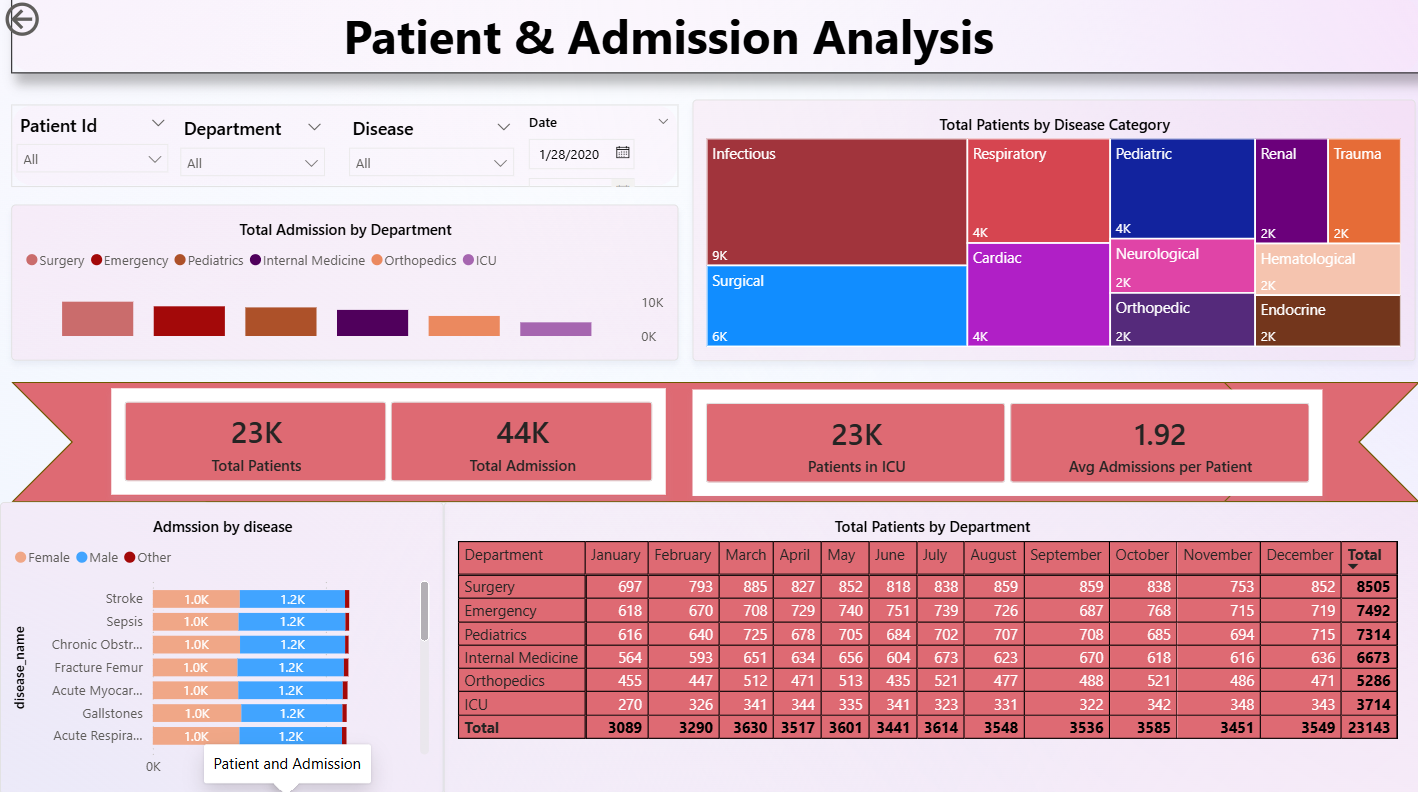

The page's visual inventory and layout, read from the dashboard file:
{"tool":"powerbi","page":{"name":"Patient and Admission","canvas":[1280,720],"ordinal":1},"visuals":[{"type":"shape","box":[131.7,347.2,1148.5,108.4],"z":0},{"type":"shape","box":[0,347.2,1148.5,108.4],"z":1000},{"type":"shape","box":[10,0,1270.3,68.6],"z":2000},{"type":"textbox","box":[0,0,1206,72.9],"z":3000},{"type":"treemap","title":"Total Patients by Disease Category","fields":{"Group":["disease.disease_category"],"Values":["admission.Total Patients"]},"box":[624.4,91.9,651.8,236],"z":4000},{"type":"cardVisual","fields":{"Data":["admission.Patients in ICU","admission.Avg Admissions per Patient"]},"box":[624.4,354,569.5,96.1],"z":5000},{"type":"shape","box":[10,97.2,601.6,74.3],"z":6000},{"type":"slicer","fields":{"Values":["admission.patient_id"]},"box":[10,103.3,146.7,65],"z":7000},{"type":"slicer","fields":{"Values":["department.department_type"]},"box":[158.3,106.7,140,65],"z":8000},{"type":"slicer","fields":{"Values":["disease.disease_name"]},"box":[310,106.7,158.3,65],"z":9000},{"type":"actionButton","box":[0,0,100,40],"z":10000},{"type":"cardVisual","fields":{"Data":["admission.Total Patients","admission.Total Admission"]},"box":[100.2,354,502.2,96.1],"z":11000},{"type":"barChart","title":"Admssion by disease","fields":{"Category":["disease.disease_name"],"Series":["patient.gender"],"Y":["admission.Total Admission"]},"box":[0,450,400,270],"z":12000},{"type":"columnChart","title":"Total Admission by Department","fields":{"Y":["admission.Total Admission"],"Category":["department.department_name"],"Series":["department.department_name"]},"box":[10,187.1,601.3,141],"z":13000},{"type":"pivotTable","title":"Total Patients by Department","fields":{"Rows":["department.department_name"],"Values":["admission.Total Patients"],"Columns":["Date.Date.Variation.Date Hierarchy.Month","Date.Date.Variation.Date Hierarchy.Day"]},"box":[400,455,880,265],"z":14000},{"type":"slicer","fields":{"Values":["Date.Date"]},"box":[468.3,105,141.7,66.7],"z":15000}]}

Visuals, with their boxes in screenshot pixels (x1, y1, x2, y2), scaled from the page's 1280x720 canvas onto the 1418x792 screenshot:
shape: pyautogui.locateOnScreen(146, 382, 1417, 501)
shape: pyautogui.locateOnScreen(0, 382, 1272, 501)
shape: pyautogui.locateOnScreen(11, 0, 1417, 75)
textbox: pyautogui.locateOnScreen(0, 0, 1336, 80)
"Total Patients by Disease Category" treemap: pyautogui.locateOnScreen(692, 101, 1414, 361)
cardVisual - admission.Patients in ICU x admission.Avg Admissions per Patient: pyautogui.locateOnScreen(692, 389, 1323, 495)
shape: pyautogui.locateOnScreen(11, 107, 678, 189)
slicer - admission.patient_id: pyautogui.locateOnScreen(11, 114, 174, 185)
slicer - department.department_type: pyautogui.locateOnScreen(175, 117, 330, 189)
slicer - disease.disease_name: pyautogui.locateOnScreen(343, 117, 519, 189)
actionButton: pyautogui.locateOnScreen(0, 0, 111, 44)
cardVisual - admission.Total Patients x admission.Total Admission: pyautogui.locateOnScreen(111, 389, 667, 495)
"Admssion by disease" barChart: pyautogui.locateOnScreen(0, 495, 443, 791)
"Total Admission by Department" columnChart: pyautogui.locateOnScreen(11, 206, 677, 361)
"Total Patients by Department" pivotTable: pyautogui.locateOnScreen(443, 501, 1417, 791)
slicer - Date.Date: pyautogui.locateOnScreen(519, 116, 676, 189)
